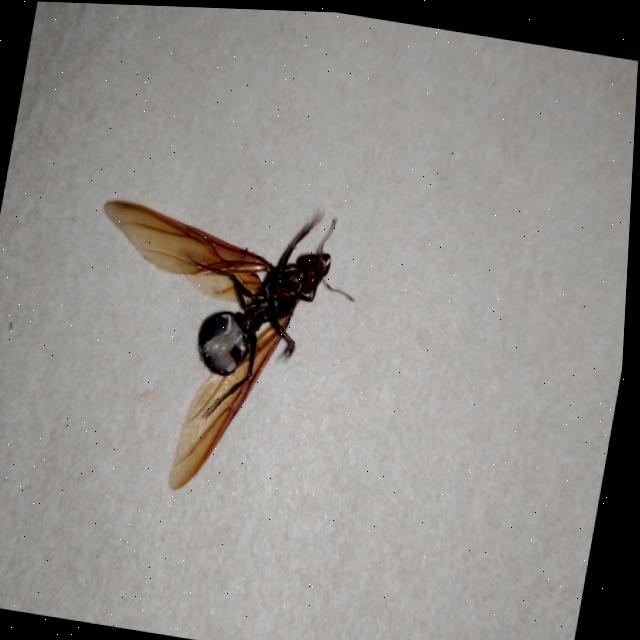Alive-Female-Alate: (60, 178, 371, 512)
